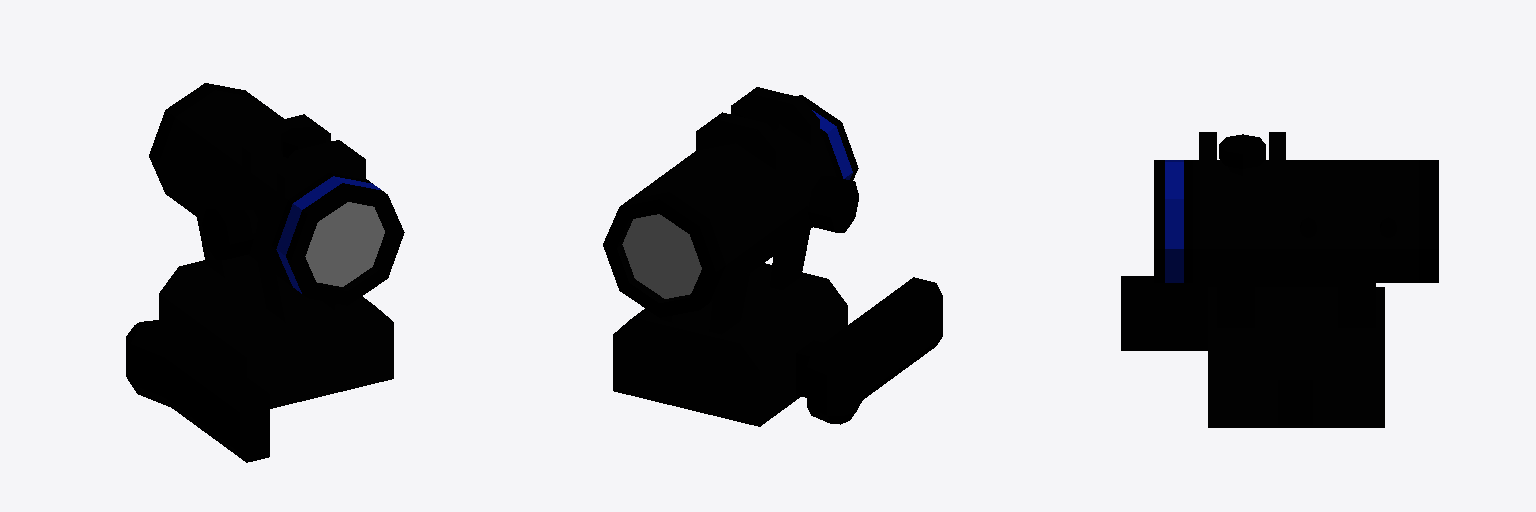
File: RedDot_West.obj
3 renders of one model, left to right at view 1: azimuth 30°, elevation 25°; view 2: azimuth 150°, elevation 25°; view 3: azimuth 270°, elevation 25°, orthographic.
Visible parts, largest first — view 1: RedDot_West; view 2: RedDot_West; view 3: RedDot_West.
Part boxes in pixels (x1,y1,x2,y2): RedDot_West: (126,83,404,462); RedDot_West: (603,87,942,426); RedDot_West: (1121,132,1438,427).
Bounding box in the file's own units: 0.0434 × 0.0491 × 0.0557.